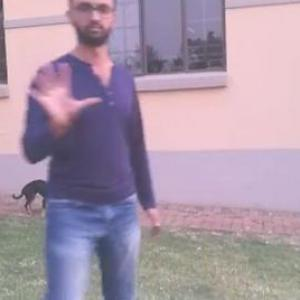follow_hand: (25, 55, 103, 131)
